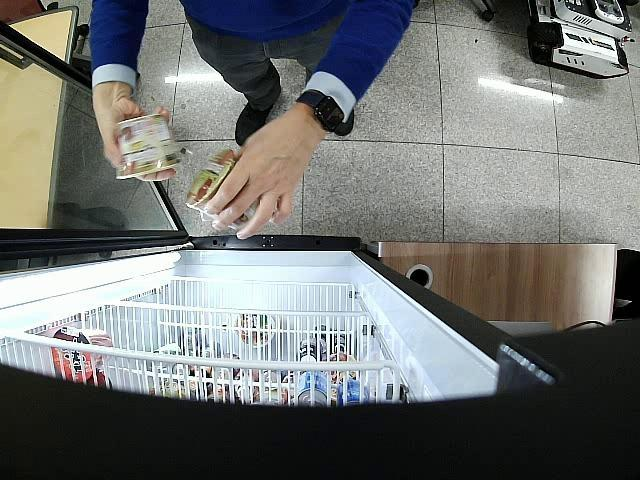04_chapagetti_S: (186, 147, 260, 231), (116, 114, 181, 179)
